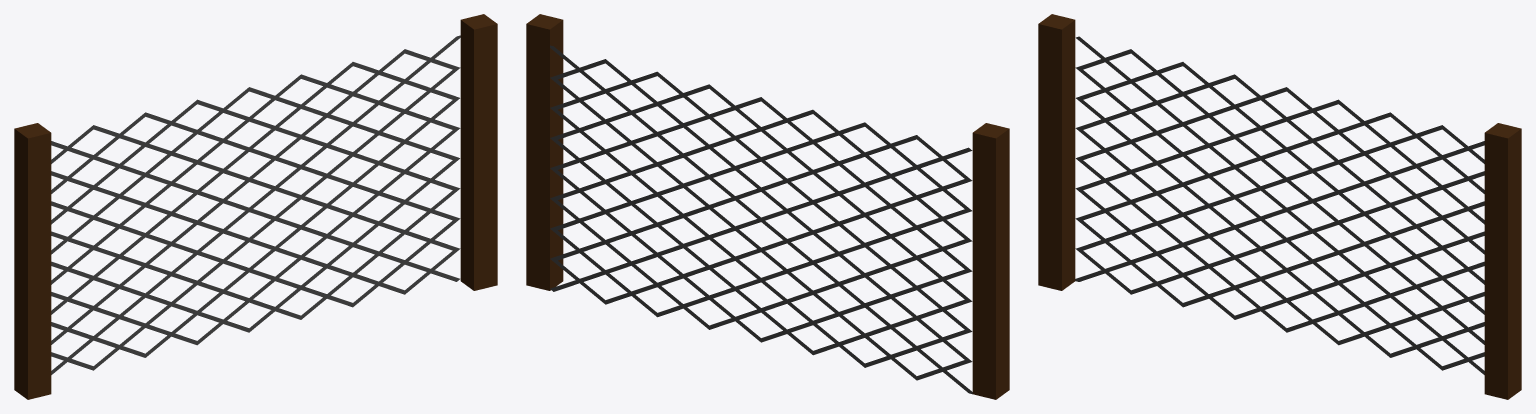
The model's file is InvertedFenceModule.fbx.
3 renders of one model, left to right at view 1: azimuth 30°, elevation 25°; view 2: azimuth 150°, elevation 25°; view 3: azimuth 330°, elevation 25°, orthographic.
Visible parts, largest first — view 1: InvertedFenceModule; view 2: InvertedFenceModule; view 3: InvertedFenceModule.
Part boxes in pixels (<box>): InvertedFenceModule: <box>14,14,497,399</box>; InvertedFenceModule: <box>526,14,1009,399</box>; InvertedFenceModule: <box>1038,14,1521,399</box>.
Size of the model in its own units: 400 by 213 by 20.
